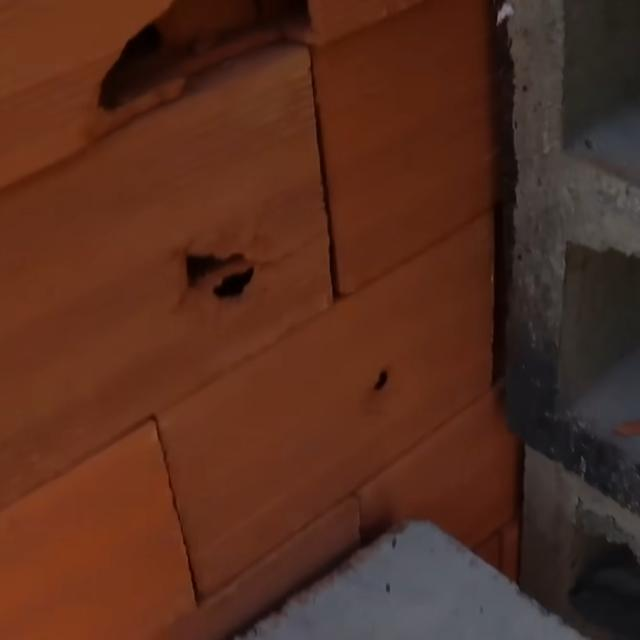bullets: (369, 364, 395, 398)
